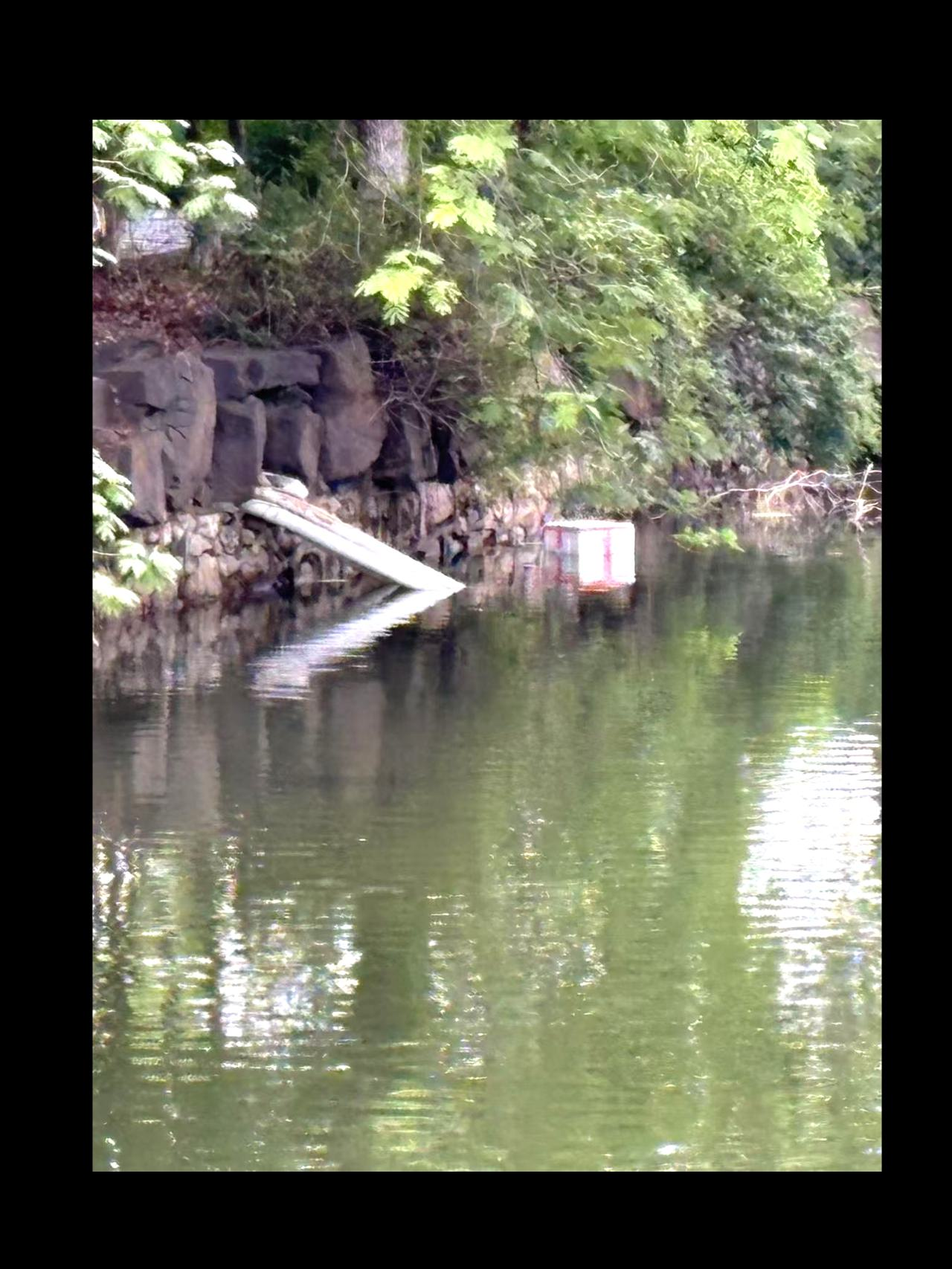Plastic wastes: (541, 519, 638, 578)
